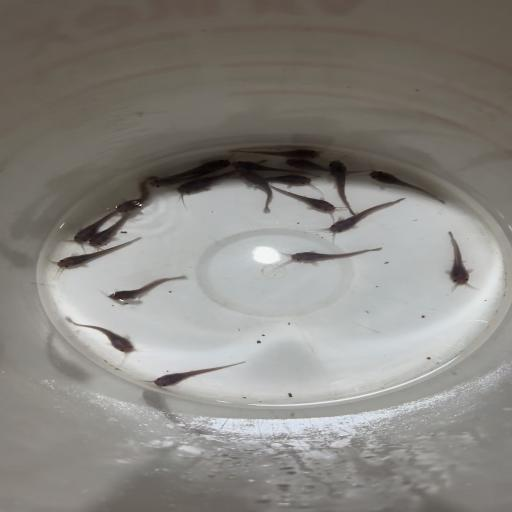lele: (175, 160, 270, 197), (325, 196, 407, 238), (50, 236, 143, 271), (364, 168, 448, 204), (64, 316, 136, 355), (146, 361, 246, 388), (439, 230, 479, 295), (99, 274, 188, 303), (274, 245, 384, 267), (323, 157, 360, 215), (269, 184, 338, 214), (114, 174, 158, 214), (280, 156, 374, 174), (231, 159, 322, 177), (238, 169, 274, 214), (88, 211, 131, 248), (160, 158, 232, 180), (69, 210, 117, 243), (226, 143, 324, 159), (152, 172, 210, 188), (261, 173, 314, 187)
